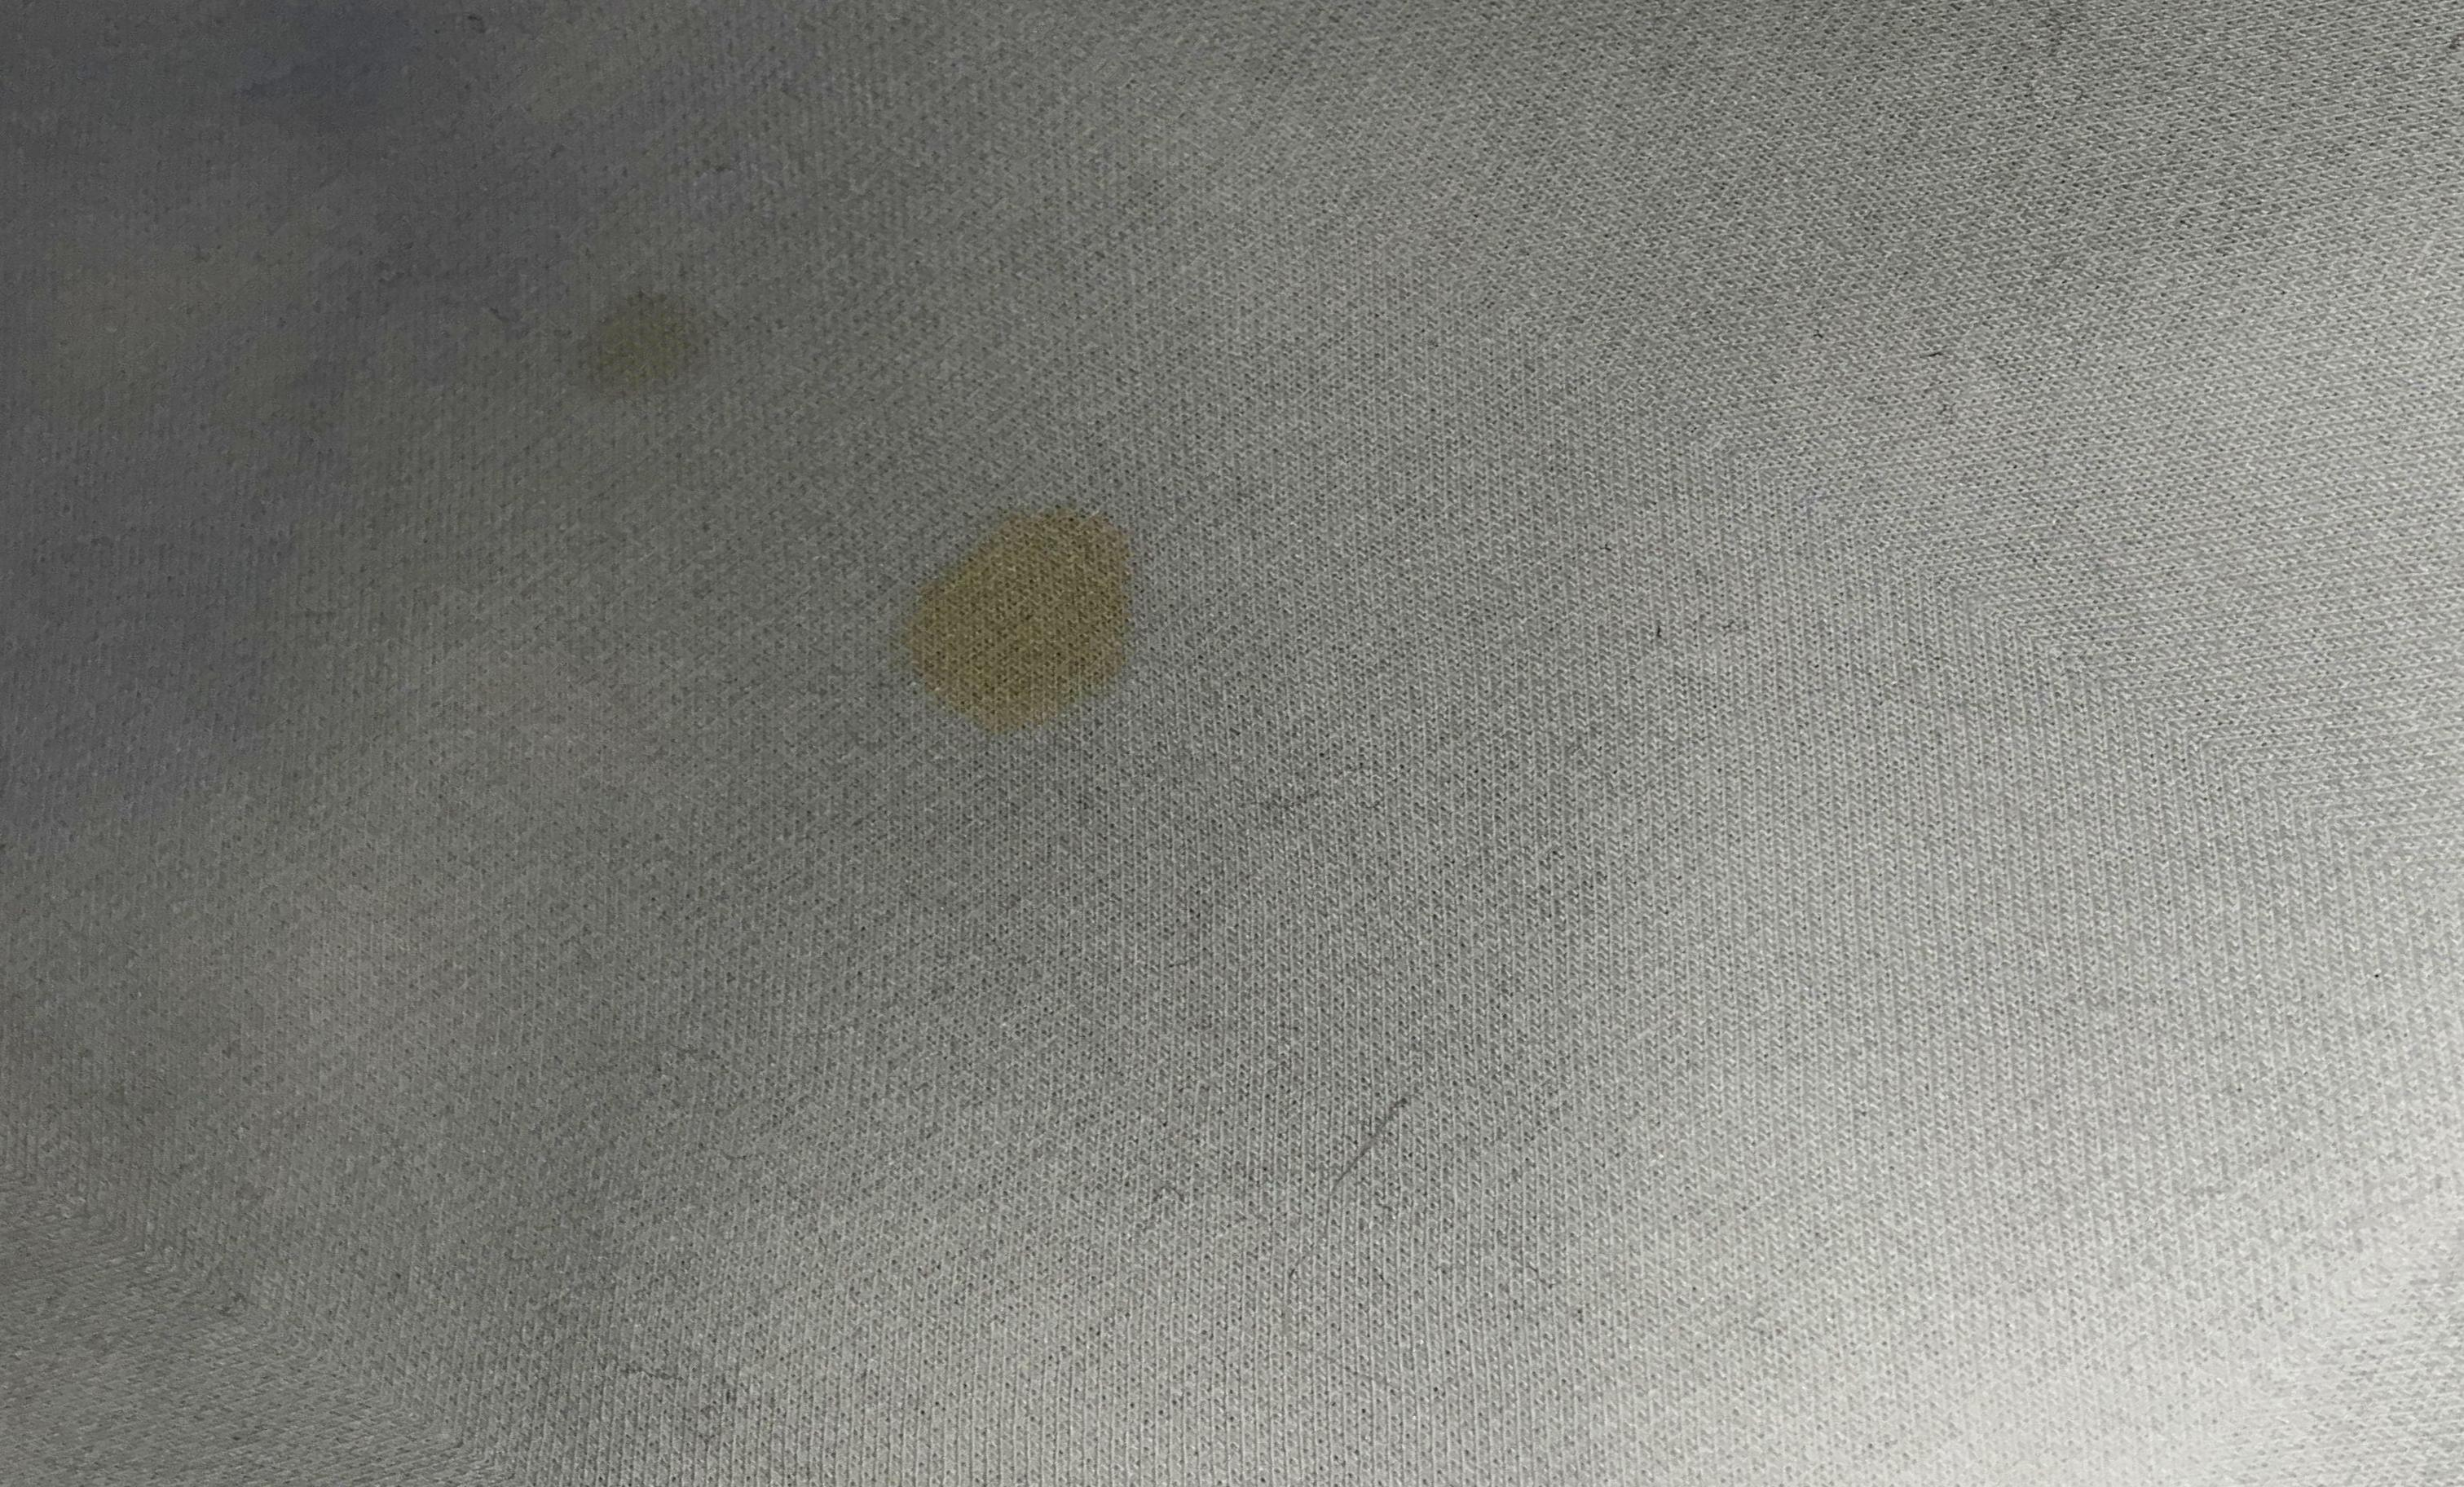stain: (887, 477, 1160, 760), (542, 248, 752, 422)
